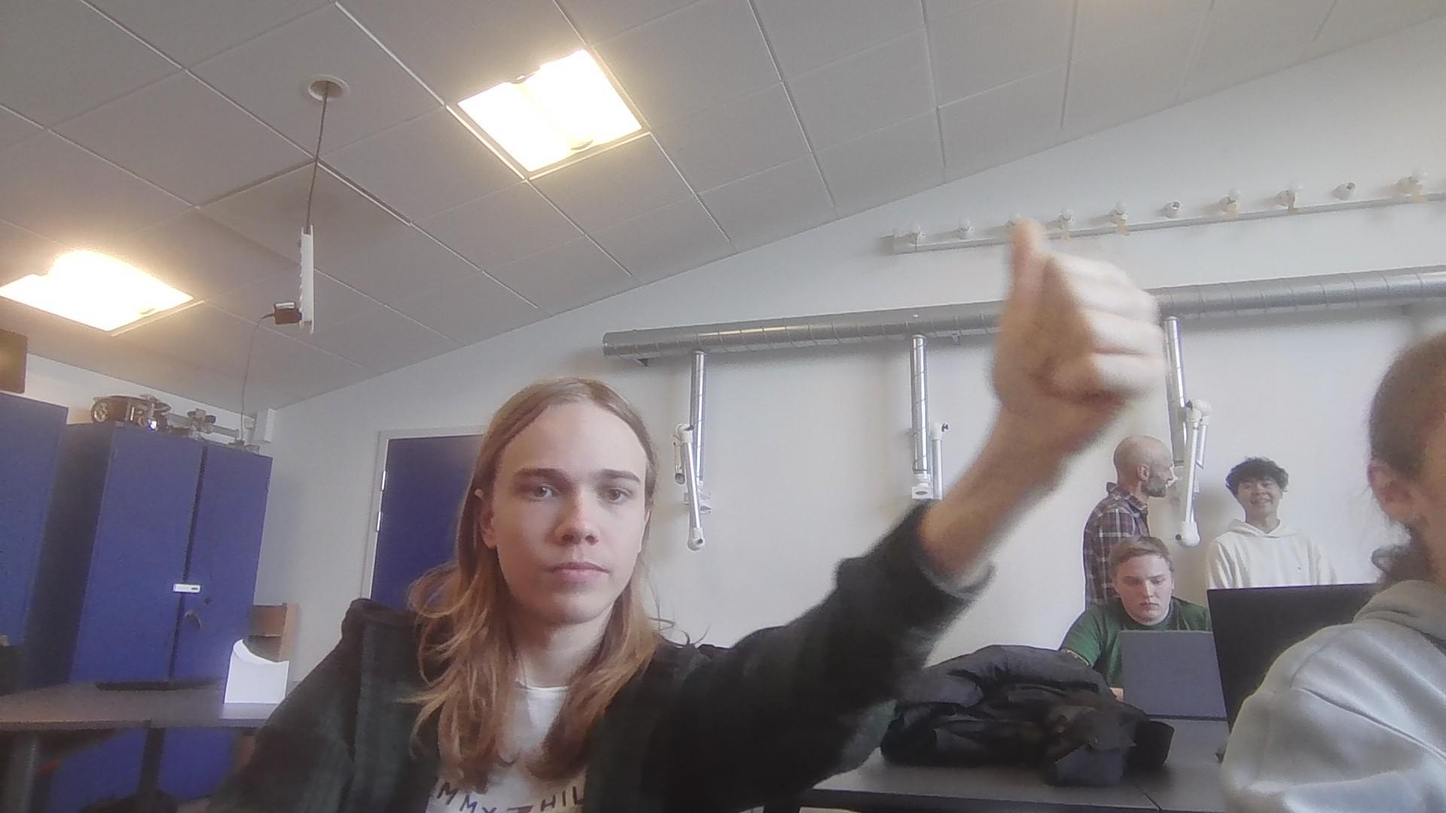thumbs up: (975, 206, 1167, 451)
